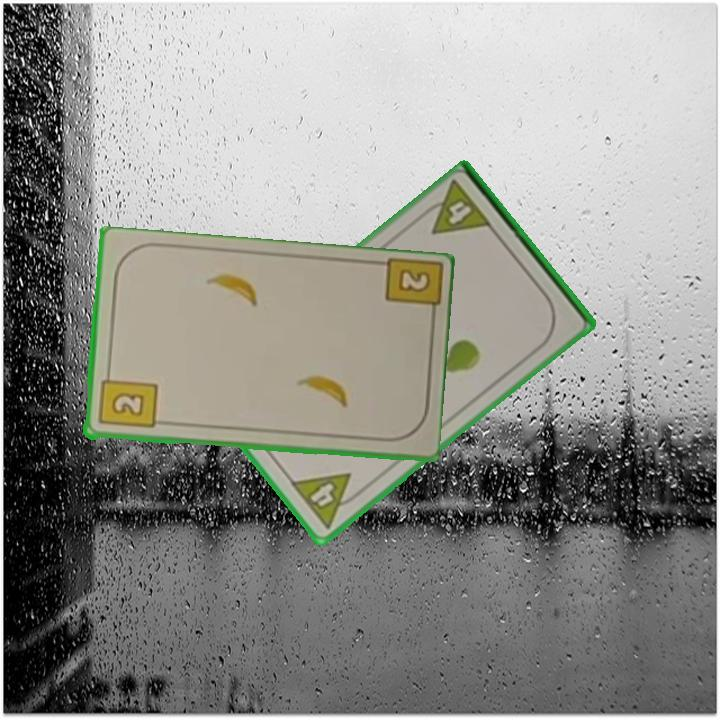2b: (380, 257, 442, 326), (95, 367, 159, 432)
4p: (287, 469, 367, 532), (416, 177, 496, 238)
